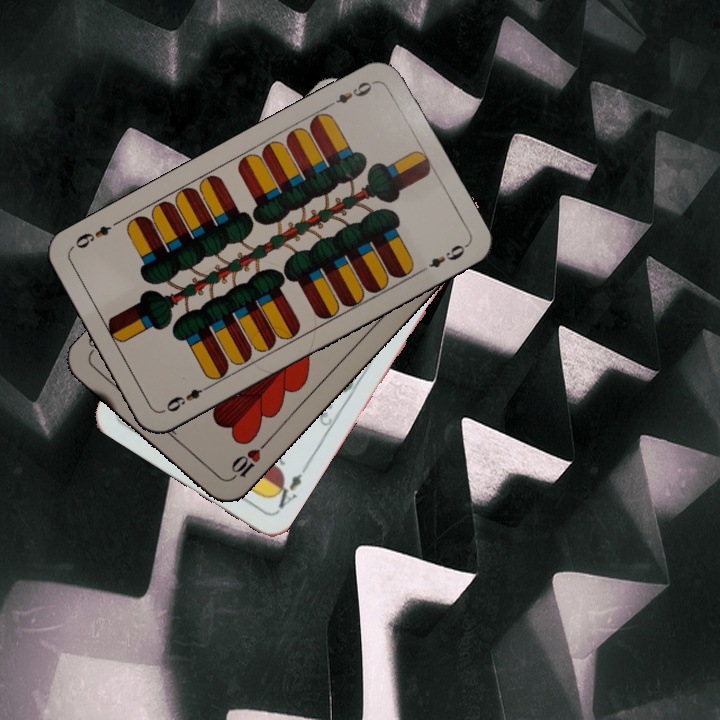E9: (323, 76, 378, 110), (162, 380, 214, 415)
EA: (266, 461, 310, 514)
H10: (223, 438, 270, 485)
